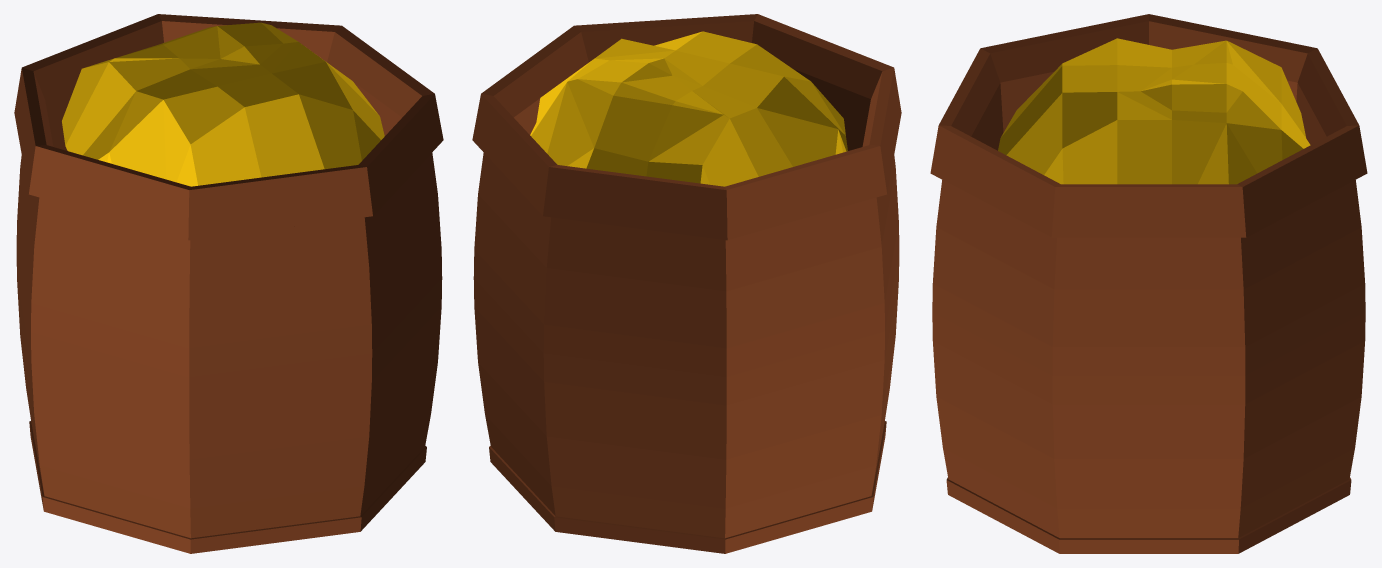
The model's file is Bread Container.fbx.
The picture shows the model from 3 angles, left to right: view 1: azimuth 30°, elevation 25°; view 2: azimuth 150°, elevation 25°; view 3: azimuth 270°, elevation 25°; orthographic projection.
Visible parts, largest first — view 1: Node 0; view 2: Node 0; view 3: Node 0.
Boxes of the visible parts, left/top/right/bottom form: Node 0: left=14, top=14, right=443, bottom=553; Node 0: left=472, top=14, right=901, bottom=553; Node 0: left=930, top=14, right=1367, bottom=553.
Bounding box in the file's own units: 0.1893 × 0.1952 × 0.1846.
